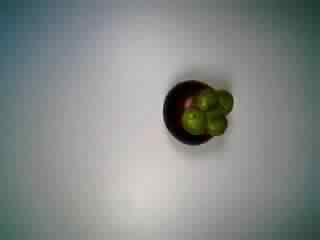mangosteen: (155, 72, 238, 147)
